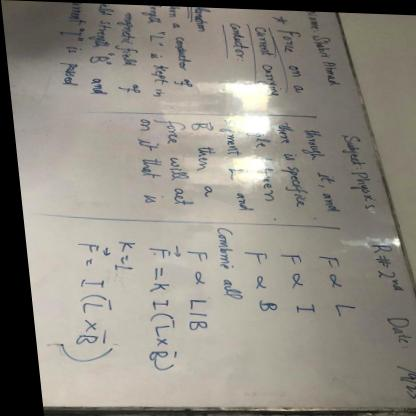Handwritten text: (112, 113, 160, 210), (266, 120, 308, 209), (156, 115, 189, 208), (161, 5, 195, 95), (109, 10, 143, 100), (205, 222, 239, 303), (302, 32, 349, 89), (277, 20, 308, 104), (252, 23, 282, 102), (296, 123, 336, 181), (183, 144, 223, 200), (50, 42, 87, 91), (83, 3, 121, 50), (340, 168, 378, 209), (332, 124, 367, 165), (140, 50, 168, 101), (367, 310, 410, 343), (222, 16, 247, 61), (190, 6, 223, 37), (55, 2, 88, 26), (302, 250, 343, 269), (223, 185, 249, 213), (311, 187, 339, 212), (319, 300, 356, 318), (136, 277, 171, 296), (299, 9, 332, 28), (82, 75, 110, 95), (136, 4, 158, 29), (283, 299, 313, 316), (360, 236, 390, 253), (245, 297, 276, 312), (63, 333, 96, 347), (139, 244, 166, 261), (68, 277, 103, 290), (175, 295, 204, 310), (69, 300, 99, 314), (239, 246, 265, 261), (179, 247, 204, 262), (68, 242, 96, 255), (274, 250, 298, 265), (142, 321, 164, 337), (175, 319, 204, 330), (136, 350, 165, 361), (106, 239, 132, 251), (139, 298, 166, 309), (85, 53, 110, 62), (52, 29, 83, 36), (142, 33, 162, 43), (140, 289, 143, 295)
